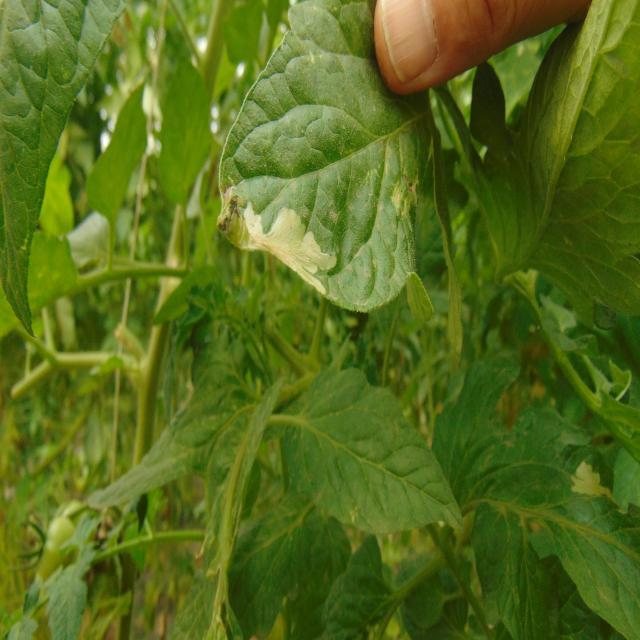Tuta absoluta: (228, 189, 353, 295)
